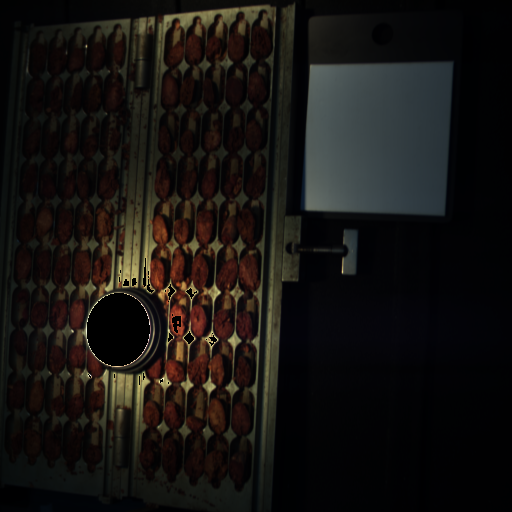bueno: (252, 26, 271, 59), (240, 256, 259, 289), (73, 251, 90, 283), (171, 250, 187, 283), (210, 352, 226, 383), (235, 356, 250, 386), (16, 249, 30, 278), (11, 330, 27, 354), (30, 45, 43, 73), (31, 344, 45, 368)
malo: (231, 403, 252, 436), (196, 212, 215, 244), (192, 254, 209, 288), (106, 80, 124, 112), (163, 441, 178, 476), (186, 450, 205, 477), (13, 293, 29, 325), (54, 255, 70, 286), (190, 306, 207, 335), (230, 454, 247, 483), (204, 122, 221, 150), (248, 76, 267, 101), (164, 403, 182, 429), (163, 76, 178, 107), (57, 210, 72, 241), (228, 76, 244, 105), (22, 170, 39, 197), (28, 382, 43, 412), (237, 313, 254, 339), (186, 36, 202, 63), (247, 170, 263, 197), (205, 37, 223, 60), (202, 171, 217, 198), (90, 387, 105, 414), (47, 431, 62, 458), (166, 41, 182, 66), (221, 216, 235, 244), (28, 83, 42, 111), (140, 441, 155, 467), (229, 35, 245, 59), (49, 48, 64, 73), (224, 174, 241, 196), (160, 125, 173, 153), (166, 361, 184, 381), (6, 429, 21, 453), (203, 78, 217, 103), (53, 301, 66, 327), (90, 42, 104, 66), (25, 432, 40, 454), (49, 87, 63, 109), (60, 174, 74, 196), (106, 127, 118, 152), (112, 42, 126, 63), (69, 346, 83, 367), (42, 172, 54, 196), (37, 212, 50, 234), (70, 85, 81, 110), (69, 48, 82, 69), (87, 443, 100, 464), (50, 397, 63, 414), (63, 133, 75, 151), (187, 416, 204, 428)
parcial: (214, 309, 235, 340), (208, 398, 227, 432), (217, 259, 237, 290), (155, 162, 172, 197), (169, 305, 188, 336), (189, 354, 208, 383), (208, 451, 227, 480), (240, 208, 256, 242), (142, 399, 162, 425), (178, 169, 196, 197), (152, 215, 170, 242), (150, 257, 166, 287), (98, 172, 117, 196), (34, 252, 49, 281), (182, 77, 197, 105), (8, 379, 23, 406), (226, 126, 243, 149), (246, 123, 262, 147), (98, 213, 114, 237), (48, 346, 63, 371), (85, 86, 99, 112), (174, 219, 189, 243), (66, 436, 81, 460), (95, 256, 110, 280), (67, 396, 84, 417), (180, 129, 195, 152), (78, 174, 91, 198), (17, 215, 31, 237), (81, 136, 96, 156), (71, 301, 83, 325), (86, 357, 101, 375), (146, 360, 160, 379), (33, 303, 45, 323), (25, 131, 37, 151), (77, 215, 90, 233), (44, 134, 57, 152)
